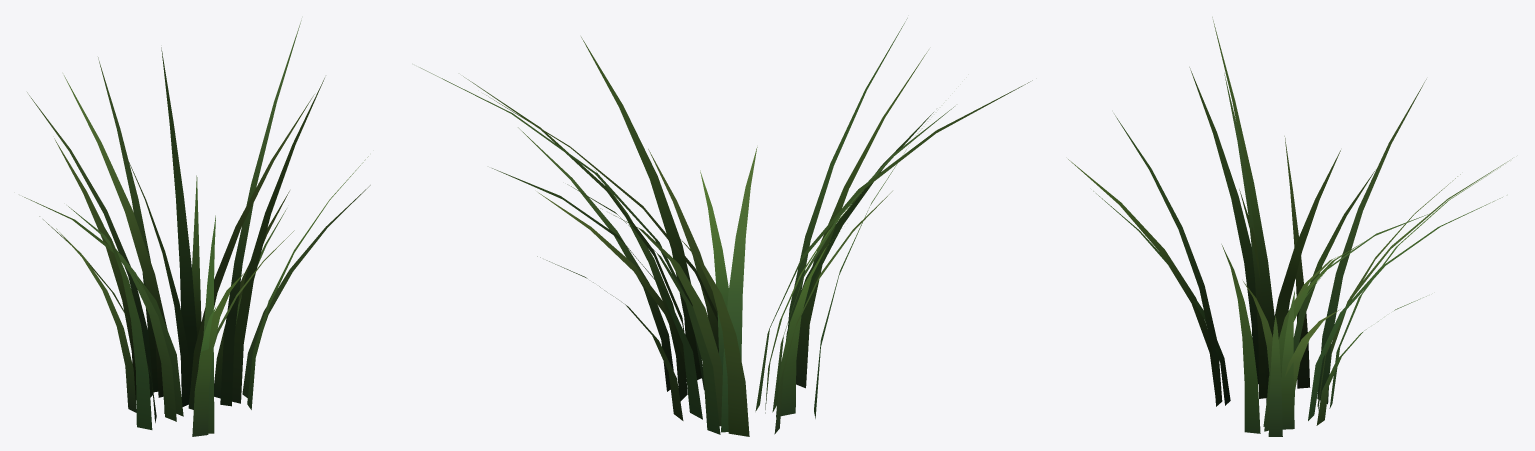
Rendered from grass-broad-a.lod0.glb.
3 renders of one model, left to right at view 1: azimuth 30°, elevation 25°; view 2: azimuth 150°, elevation 25°; view 3: azimuth 270°, elevation 25°, orthographic. The views are drawn at different scales.
Parts seen in each view (by area): view 1: grass-broad-a.lod0; view 2: grass-broad-a.lod0; view 3: grass-broad-a.lod0.
Part boxes in pixels (left/top/right/bottom): grass-broad-a.lod0: left=22, top=20, right=370, bottom=436; grass-broad-a.lod0: left=419, top=18, right=1032, bottom=436; grass-broad-a.lod0: left=1068, top=17, right=1512, bottom=436.
Size of the model in its own units: 0.8576 by 0.5974 by 0.8398.
